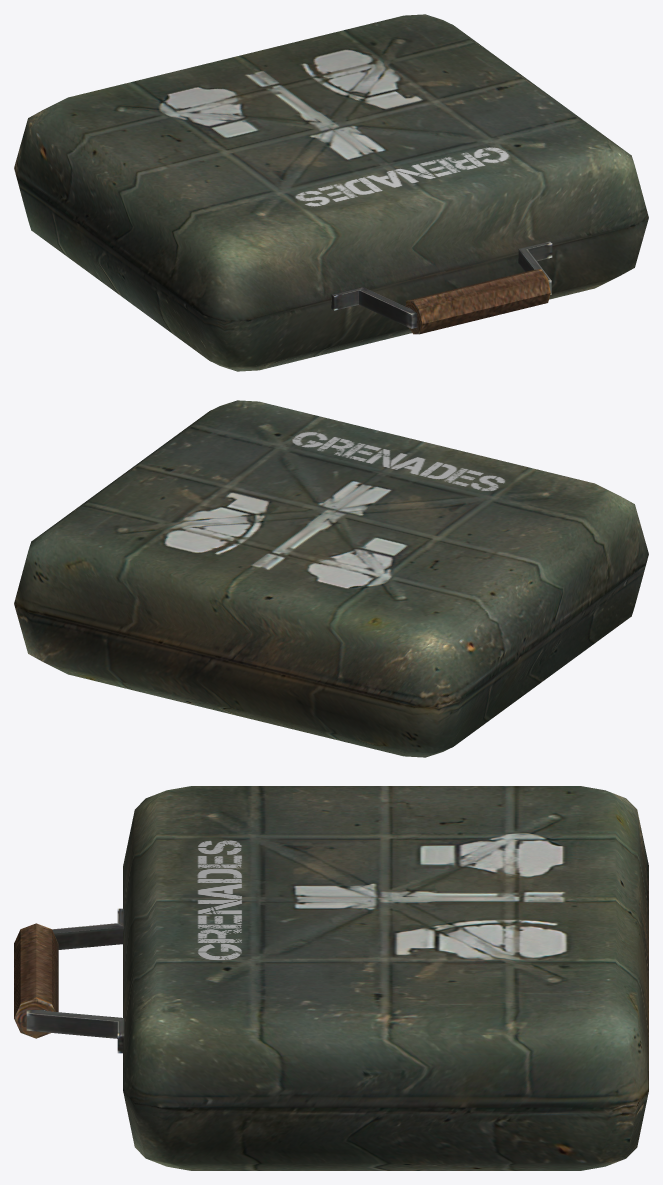
Rendered from VV_grenades.fbx.
The picture shows the model from 3 angles, top to bottom: view 1: azimuth 30°, elevation 25°; view 2: azimuth 150°, elevation 25°; view 3: azimuth 270°, elevation 25°; orthographic projection. The views are drawn at different scales.
Visible parts, largest first — view 1: VV_grenades; view 2: VV_grenades; view 3: VV_grenades.
Boxes of the visible parts, x1,y1,x2,y2 form: VV_grenades: [14, 14, 648, 371]; VV_grenades: [14, 400, 648, 757]; VV_grenades: [14, 786, 648, 1170].
Bounding box in the file's own units: 101 × 28.95 × 105.
Materials: 1 (1 with a texture image).
